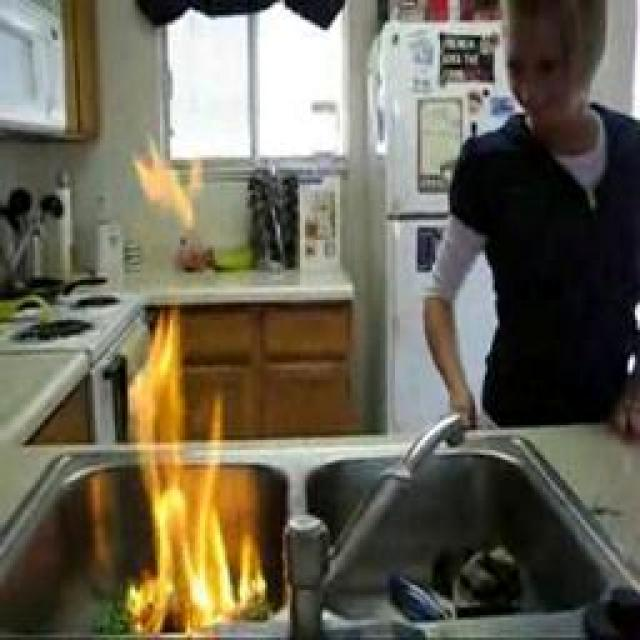fire: (124, 299, 260, 635), (134, 136, 222, 240)
